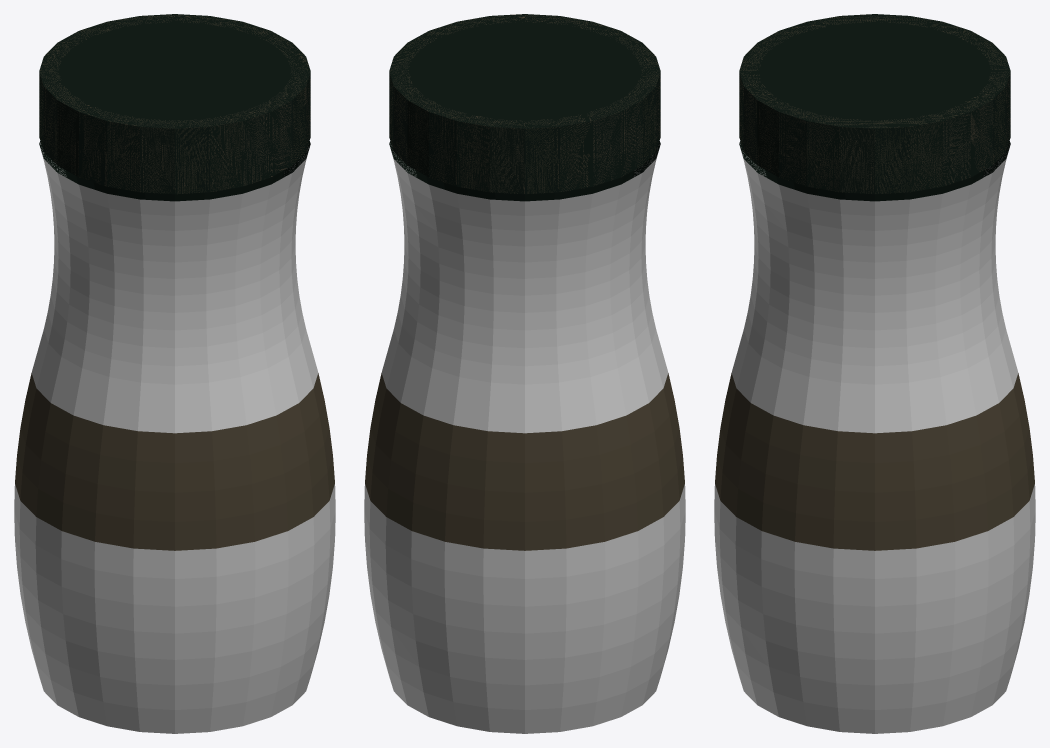
3 views of the same model, side by side, from view 1: azimuth 30°, elevation 25°; view 2: azimuth 150°, elevation 25°; view 3: azimuth 270°, elevation 25° (orthographic).
Parts seen in each view (by area): view 1: mesh1_mesh1-geometry, mesh2_mesh2-geometry; view 2: mesh1_mesh1-geometry, mesh2_mesh2-geometry; view 3: mesh1_mesh1-geometry, mesh2_mesh2-geometry.
Part boxes in pixels (bbox=[...]): mesh1_mesh1-geometry: bbox=[14, 141, 335, 733]; mesh2_mesh2-geometry: bbox=[39, 14, 310, 201]; mesh1_mesh1-geometry: bbox=[364, 141, 685, 733]; mesh2_mesh2-geometry: bbox=[389, 14, 660, 201]; mesh1_mesh1-geometry: bbox=[714, 141, 1035, 733]; mesh2_mesh2-geometry: bbox=[739, 14, 1010, 201].
Size of the model in its own units: 0.398 by 0.8265 by 0.398.
